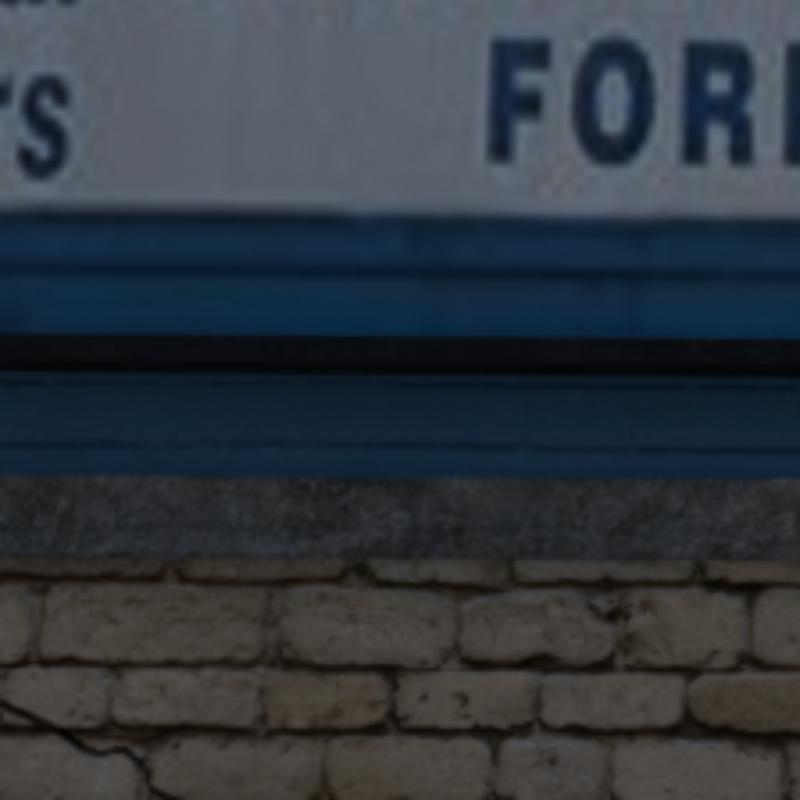pothole: (0, 700, 93, 750), (125, 750, 146, 776), (151, 787, 175, 796)
